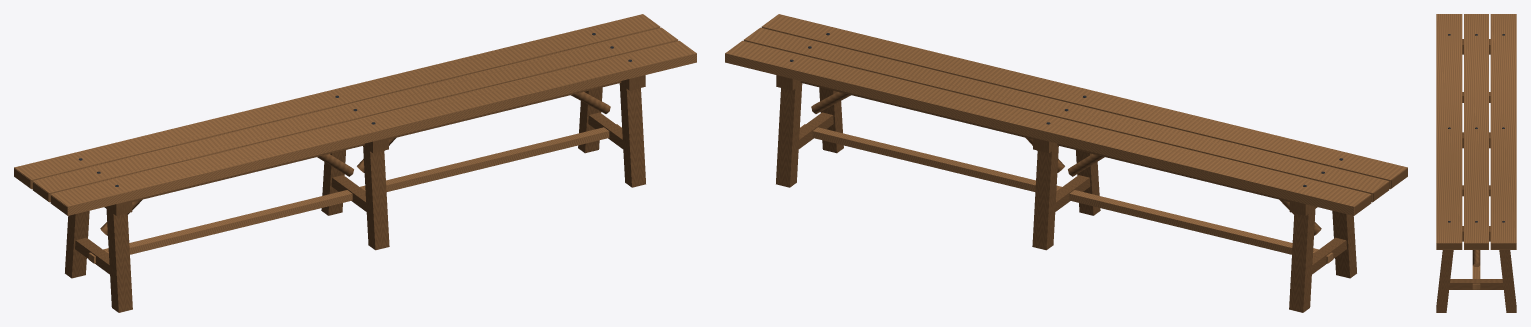
The model's file is bangku_kayu_panjang.glb.
The picture shows the model from 3 angles, left to right: view 1: azimuth 30°, elevation 25°; view 2: azimuth 150°, elevation 25°; view 3: azimuth 270°, elevation 25°; orthographic projection. The views are drawn at different scales.
Visible parts, largest first — view 1: Bangku_Kayu_Panjang; view 2: Bangku_Kayu_Panjang; view 3: Bangku_Kayu_Panjang.
Boxes of the visible parts, bbox=[...] form: Bangku_Kayu_Panjang: bbox=[14, 14, 696, 312]; Bangku_Kayu_Panjang: bbox=[725, 14, 1407, 312]; Bangku_Kayu_Panjang: bbox=[1436, 14, 1516, 312].
Size of the model in its own units: 2.5 by 0.453 by 0.372.
Materials: 1 (1 with a texture image).
